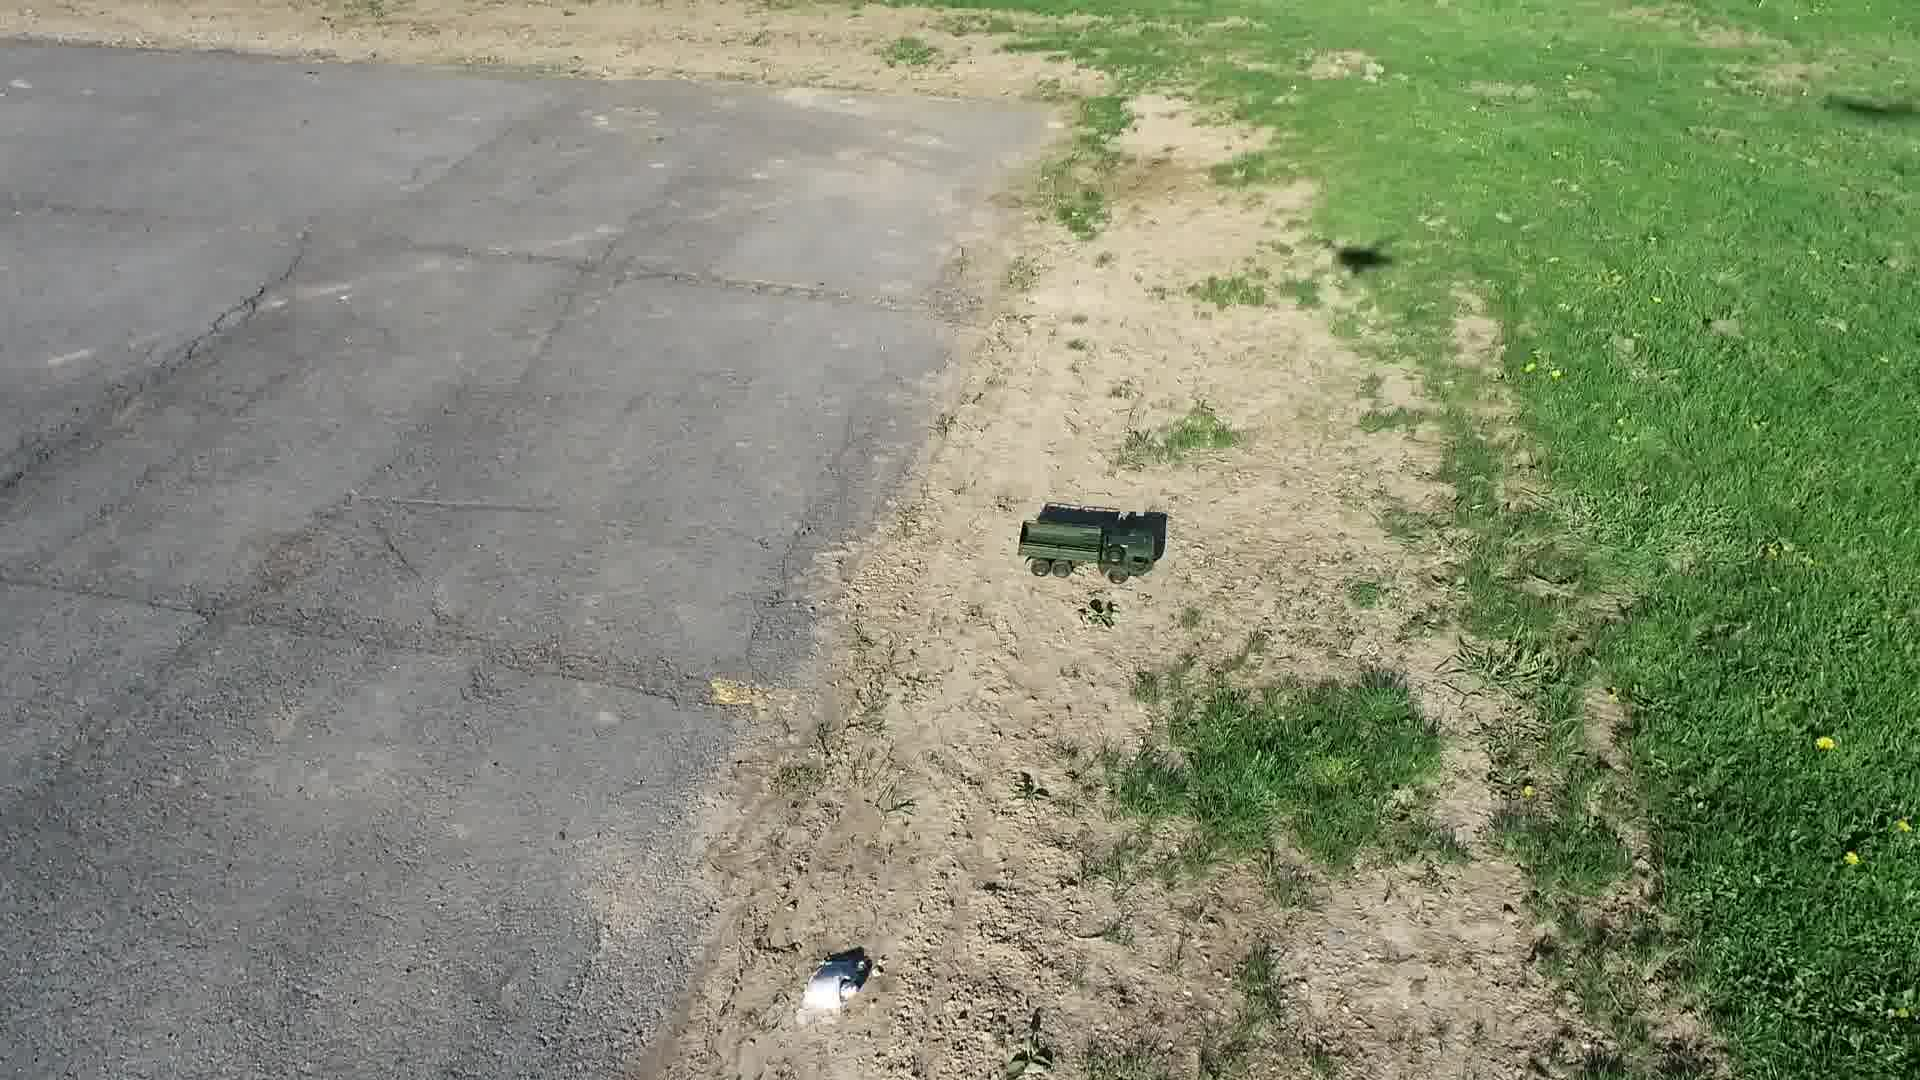transporter9: (1011, 501, 1164, 593)
